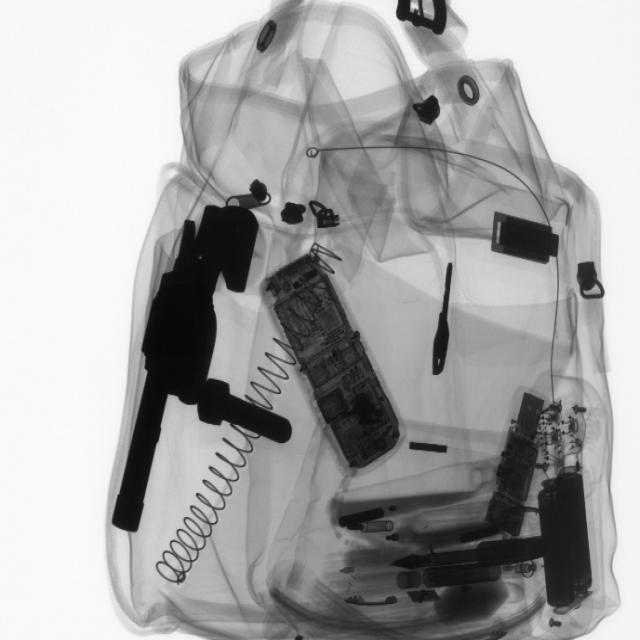GUN: (112, 196, 248, 541)
